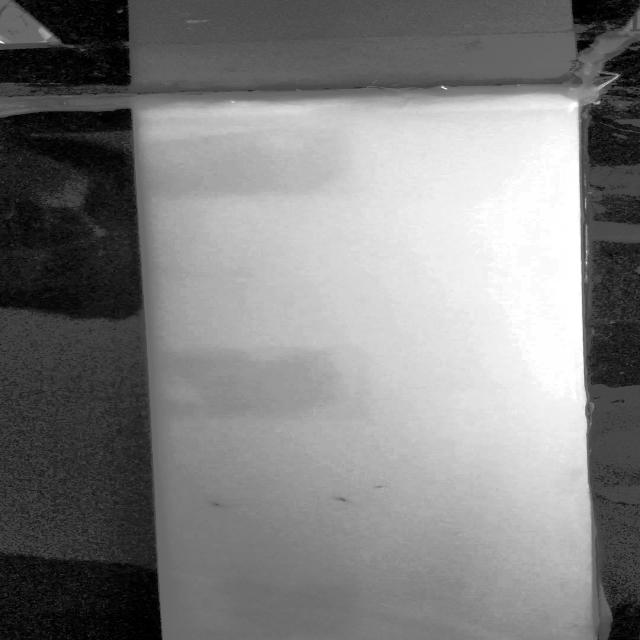shrimp: (315, 490, 381, 514), (194, 500, 242, 516)
